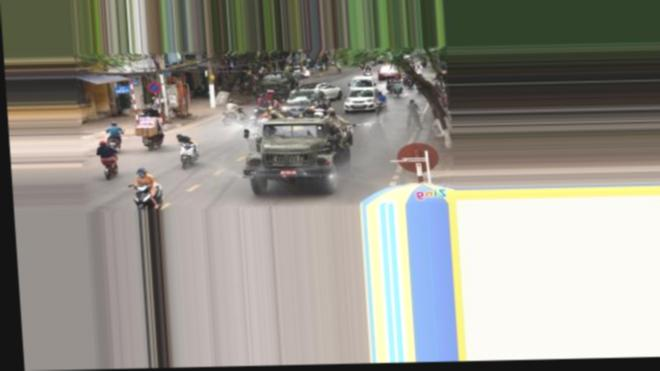License_Plate: (276, 167, 300, 181)
